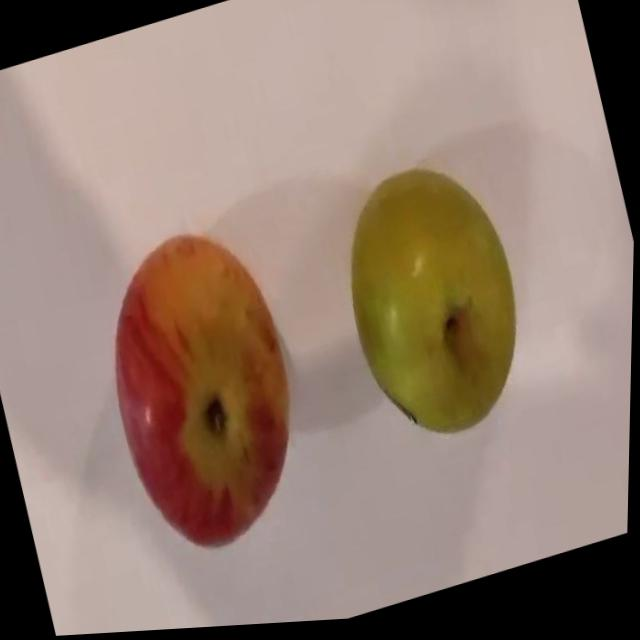Apple: (78, 207, 331, 575), (317, 152, 549, 466)
